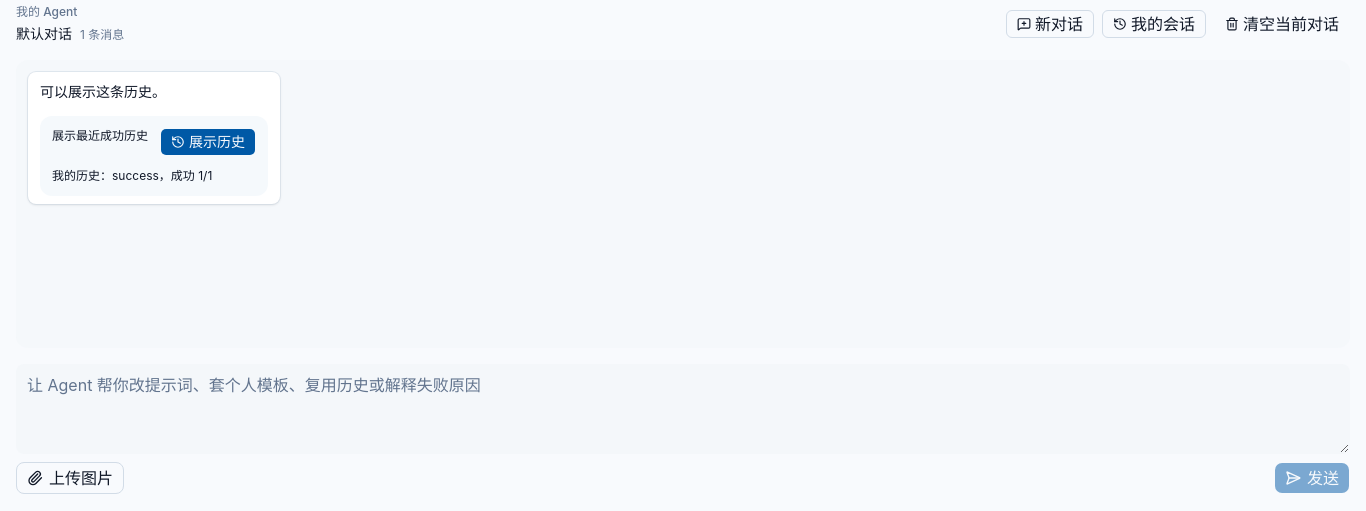
AgentChatPanel › shows a history result action after confirmation
Click the button "展示历史". click: (208, 142)
box: [160,128,256,156]
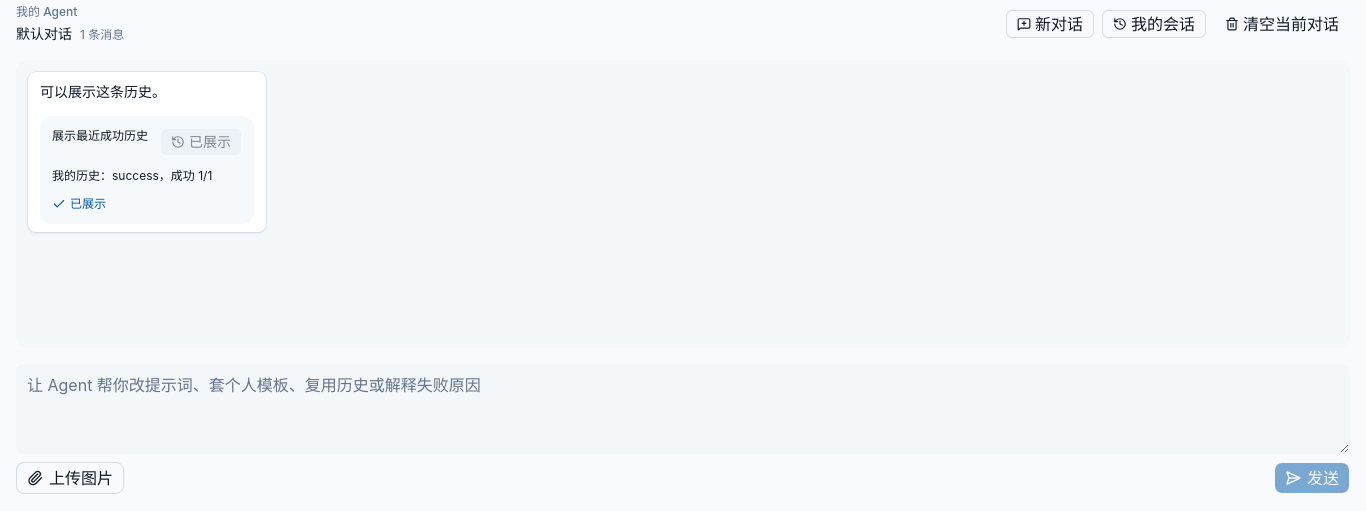
Now the button "已展示" is shown, box [160,128,242,156]
